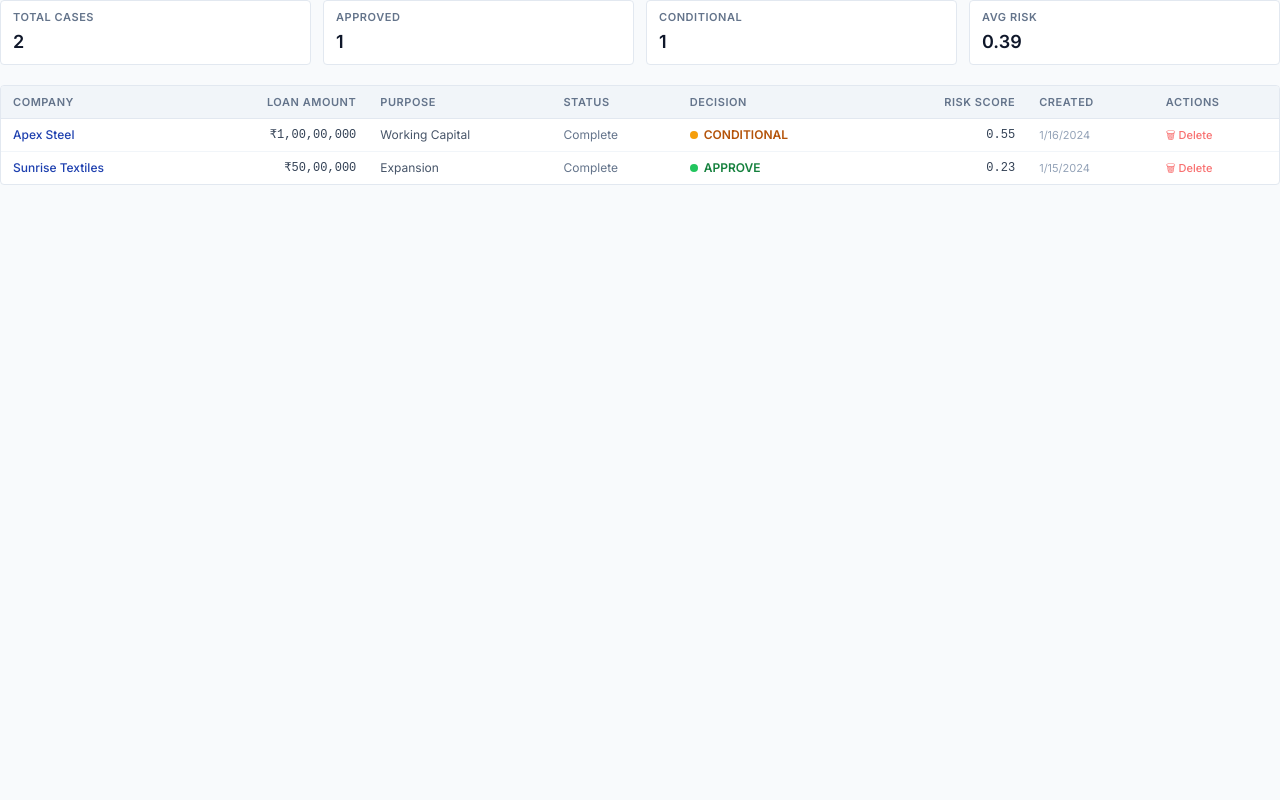
Test: CaseList delete column › opens confirm modal when Delete button clicked
Click the button "🗑 Delete" in the row of "Apex Steel": click(1189, 134) [1166,126,1212,142]
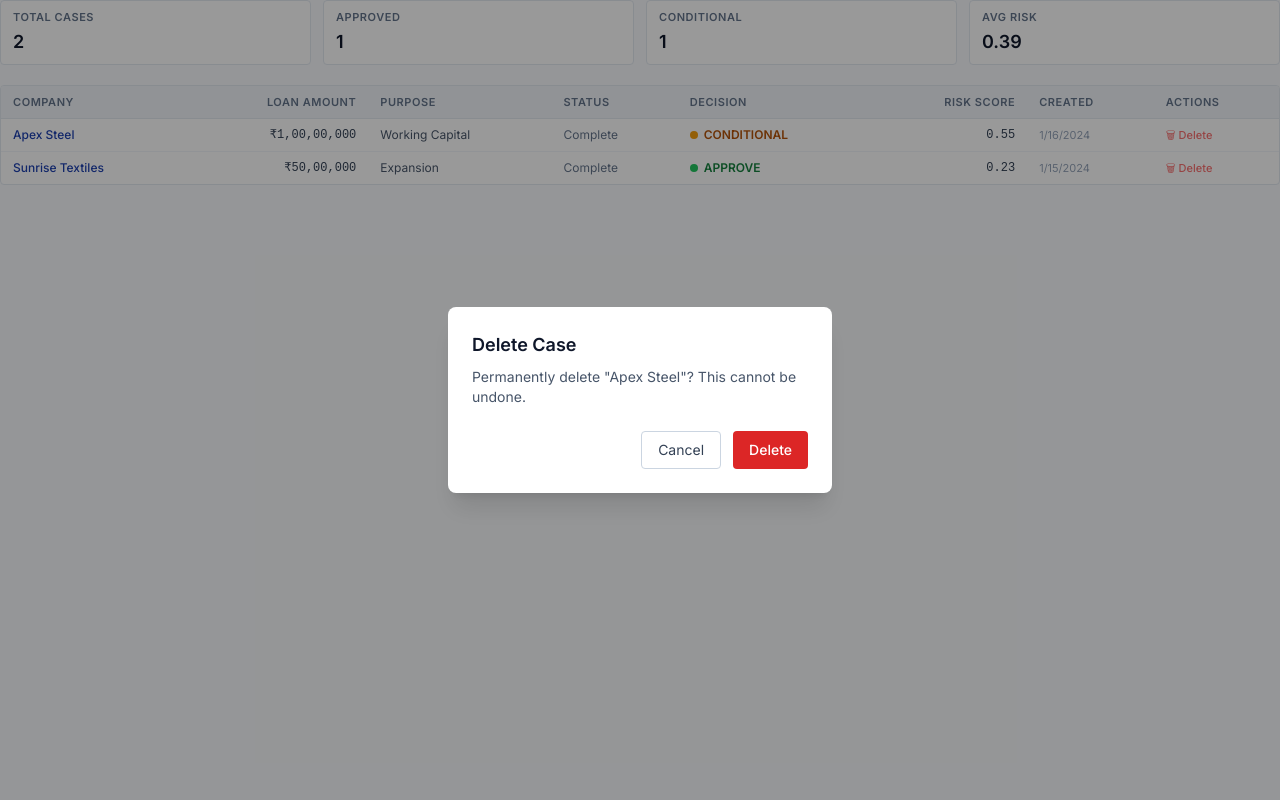
Expected: the heading "Delete Case" is shown, [472,334,576,355]
Expected: the text "Permanently delete \"Apex Steel\"? This cannot be undone." is shown, [472,367,808,407]
